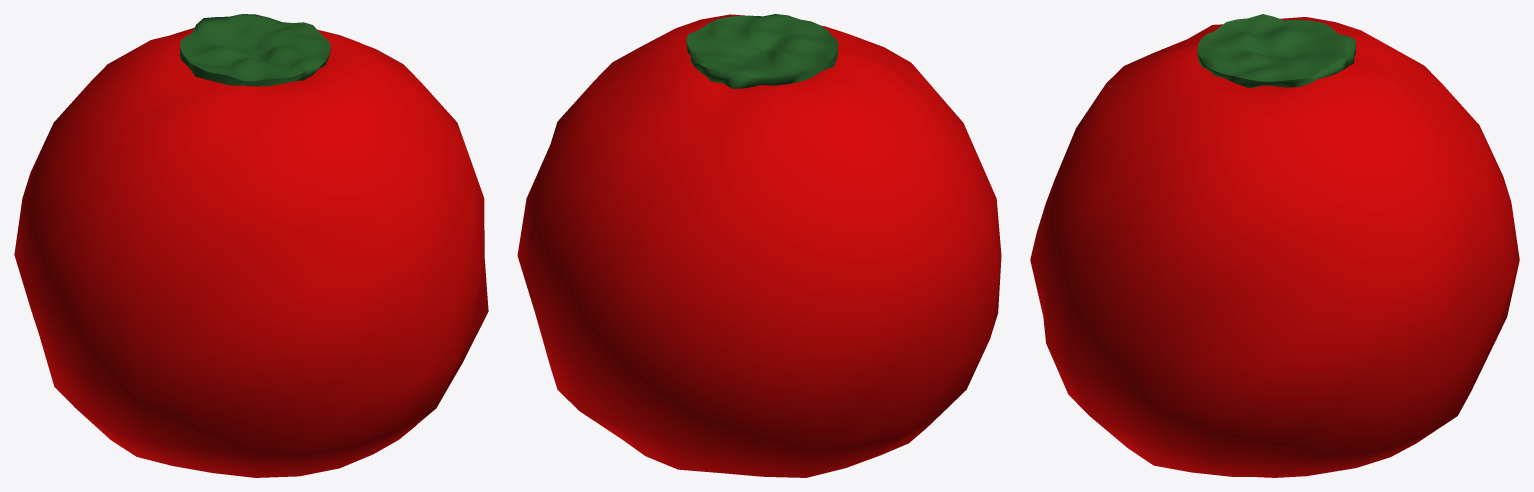
The model's file is Otomate.fbx.
The picture shows the model from 3 angles, left to right: view 1: azimuth 30°, elevation 25°; view 2: azimuth 150°, elevation 25°; view 3: azimuth 270°, elevation 25°; orthographic projection.
Visible parts, largest first — view 1: Kugel, Zylinder; view 2: Kugel, Zylinder; view 3: Kugel, Zylinder.
Part boxes in pixels (<box>): Kugel: <box>14,27,488,477</box>; Zylinder: <box>179,14,330,86</box>; Kugel: <box>517,14,1001,477</box>; Zylinder: <box>686,14,838,88</box>; Kugel: <box>1030,17,1519,477</box>; Zylinder: <box>1197,14,1355,87</box>.
Size of the model in its own units: 199 by 172 by 199.
